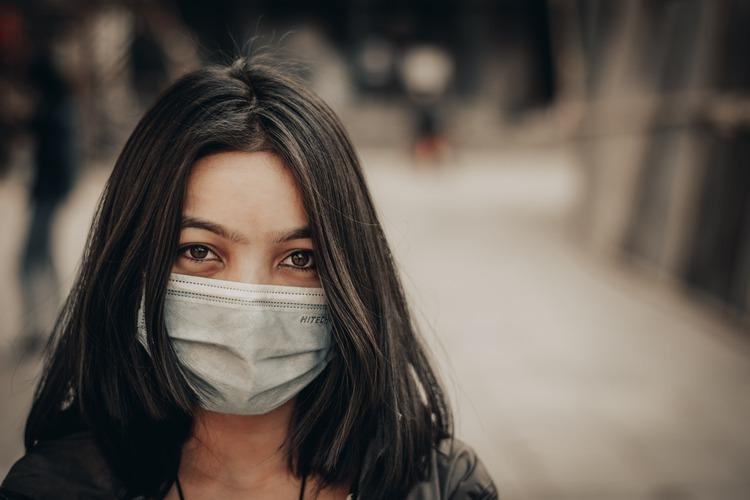with_mask: (159, 165, 333, 405)
